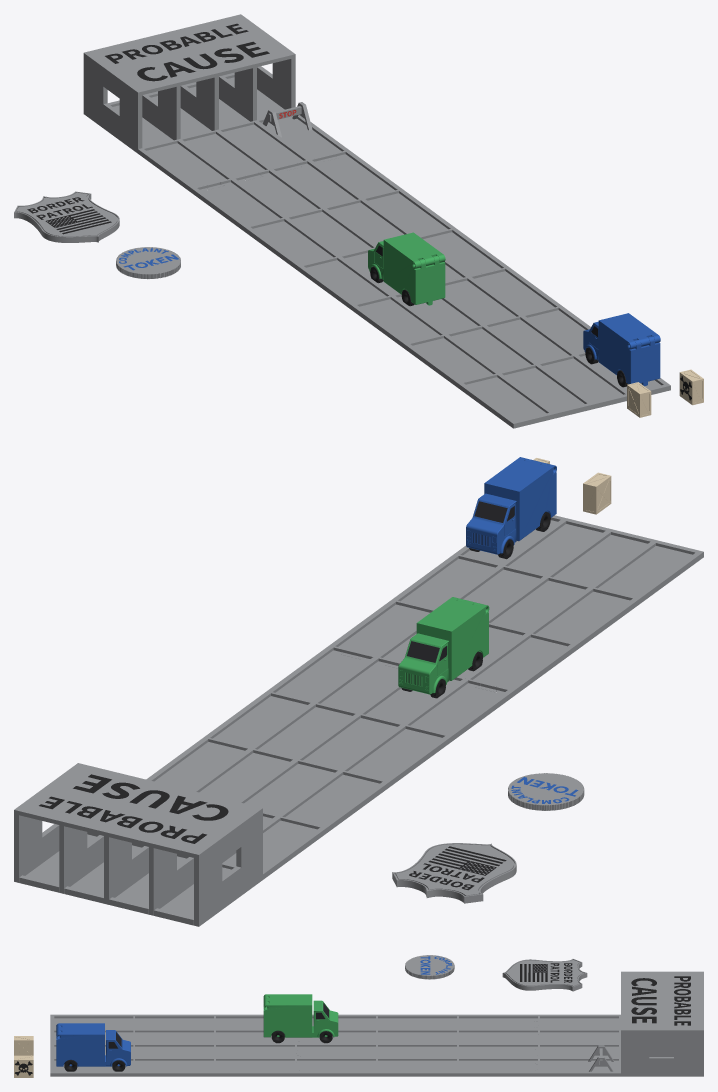
File: probable.glb
The picture shows the model from 3 angles, top to bottom: view 1: azimuth 30°, elevation 25°; view 2: azimuth 150°, elevation 25°; view 3: azimuth 270°, elevation 25°; orthographic projection. The views are drawn at different scales.
Parts seen in each view (by area): view 1: Board, Board (1), Checkpoint, Board (2), Badge, Box, Box (Green), Part 74, Door (Green), Door, Cargo Box, Drug Box; view 2: Board (1), Board, Checkpoint, Board (2), Badge, Box, Box (Green), Cab, Cab (Green), Part 74, Cargo Box; view 3: Board (1), Board, Checkpoint, Board (2), Badge, Box (Green), Box, Part 74, Cab (Green), Cab, Cargo Box, Drug Box (+3 smaller).
Part boxes in pixels (bbox=[...]): Board: bbox=[351, 267, 670, 428]; Board (1): bbox=[192, 150, 508, 309]; Checkpoint: bbox=[83, 14, 295, 153]; Board (2): bbox=[108, 72, 348, 192]; Badge: bbox=[14, 191, 119, 242]; Box: bbox=[598, 313, 660, 382]; Box (Green): bbox=[383, 232, 445, 301]; Part 74: bbox=[116, 247, 180, 279]; Door (Green): bbox=[411, 255, 445, 305]; Door: bbox=[627, 336, 660, 386]; Cargo Box: bbox=[627, 382, 651, 417]; Drug Box: bbox=[679, 369, 703, 405]; Board (1): bbox=[146, 645, 513, 833]; Board: bbox=[329, 515, 703, 695]; Checkpoint: bbox=[14, 763, 262, 926]; Board (2): bbox=[19, 812, 326, 925]; Badge: bbox=[392, 843, 516, 903]; Box: bbox=[484, 457, 556, 541]; Box (Green): bbox=[416, 597, 489, 680]; Cab: bbox=[466, 493, 516, 554]; Cab (Green): bbox=[398, 633, 448, 694]; Part 74: bbox=[508, 773, 584, 810]; Cargo Box: bbox=[583, 472, 611, 514]; Board (1): bbox=[296, 1014, 538, 1076]; Board: bbox=[50, 1014, 300, 1076]; Checkpoint: bbox=[621, 971, 703, 1076]; Board (2): bbox=[534, 1014, 620, 1076]; Badge: bbox=[502, 959, 587, 991]; Box (Green): bbox=[263, 994, 312, 1037]; Box: bbox=[56, 1023, 104, 1066]; Part 74: bbox=[405, 955, 454, 979]; Cab (Green): bbox=[313, 1000, 338, 1037]; Cab: bbox=[106, 1030, 130, 1066]; Cargo Box: bbox=[14, 1036, 33, 1055]; Drug Box: bbox=[14, 1055, 33, 1077].
Size of the model in its own units: 2.87 by 0.5576 by 6.99.
